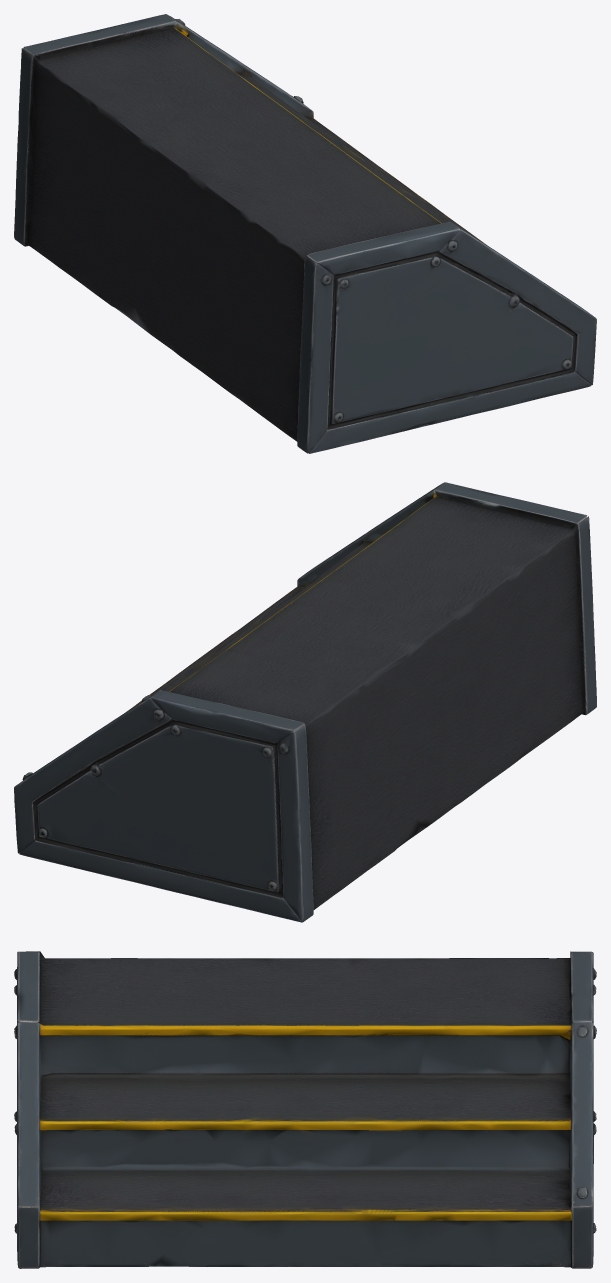
The model's file is prop_steps.glb.
3 views of the same model, one above another, from view 1: azimuth 30°, elevation 25°; view 2: azimuth 150°, elevation 25°; view 3: azimuth 270°, elevation 25° (orthographic). The views are drawn at different scales.
Parts seen in each view (by area): view 1: tripo_node_f6eb5847-816f-4224-b33d-0629d46f0fcb; view 2: tripo_node_f6eb5847-816f-4224-b33d-0629d46f0fcb; view 3: tripo_node_f6eb5847-816f-4224-b33d-0629d46f0fcb.
Boxes of the visible parts, x1,y1,x2,y2 form: tripo_node_f6eb5847-816f-4224-b33d-0629d46f0fcb: (14, 14, 596, 453); tripo_node_f6eb5847-816f-4224-b33d-0629d46f0fcb: (14, 482, 596, 922); tripo_node_f6eb5847-816f-4224-b33d-0629d46f0fcb: (14, 951, 596, 1268).
Bounding box in the file's own units: 0.549 × 0.3468 × 0.9789.
Materials: 1 (1 with a texture image).
